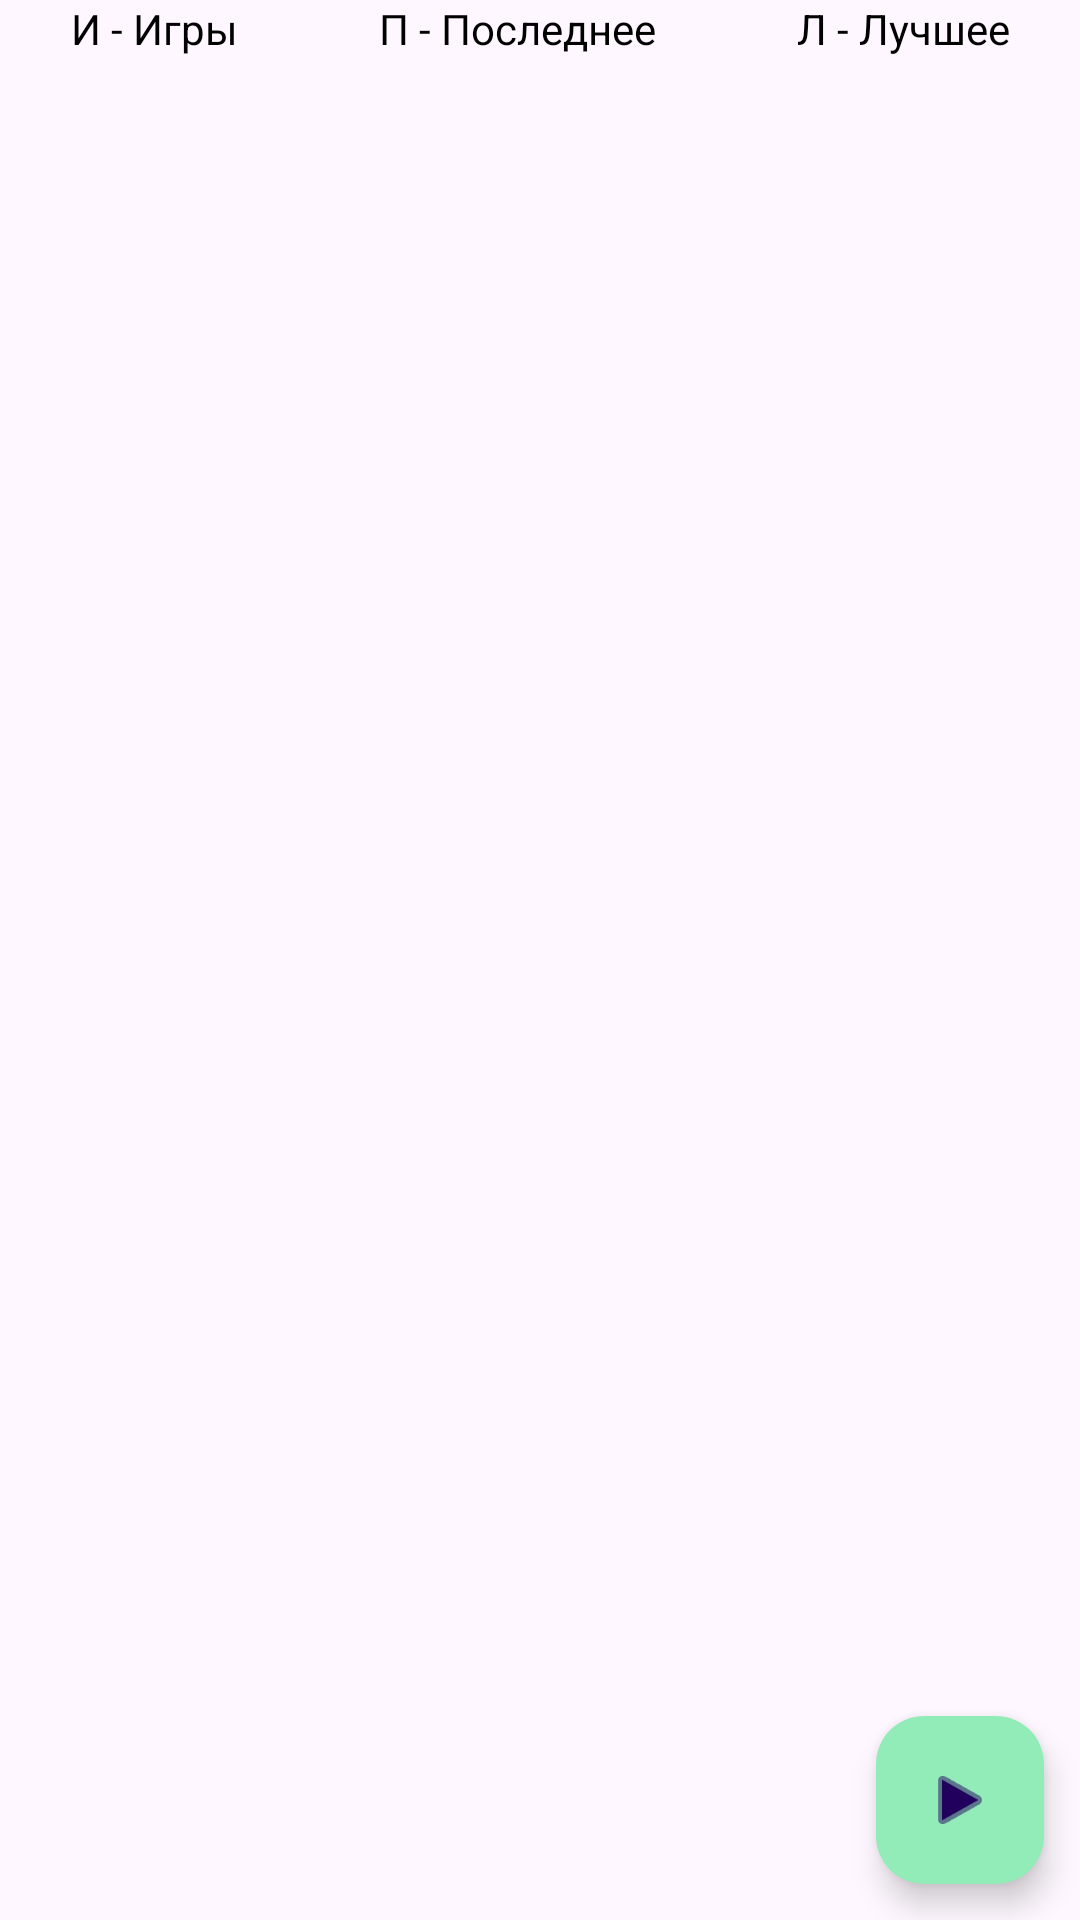

Named icons in this screenshot (1080w x 1920h) and their bounding boxes, (x1, y1, x2, y2):
play: (876, 1716, 1044, 1884)
